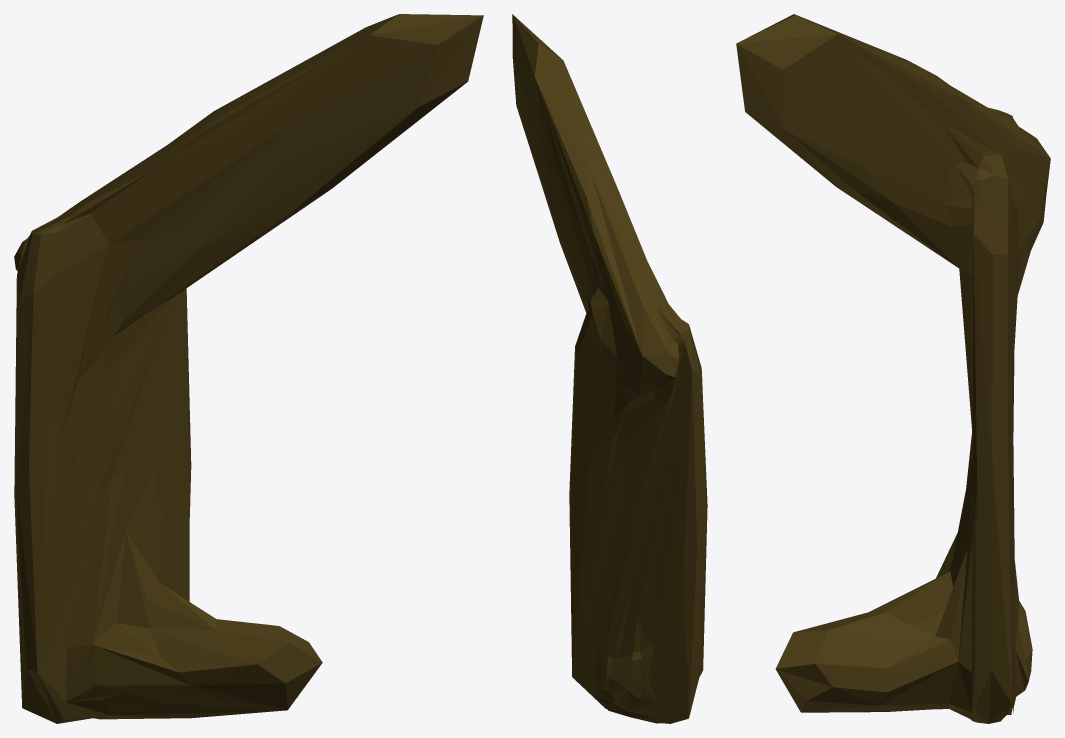
3 views of the same model, side by side, from view 1: azimuth 30°, elevation 25°; view 2: azimuth 150°, elevation 25°; view 3: azimuth 270°, elevation 25° (orthographic). The views are drawn at different scales.
Parts seen in each view (by area): view 1: 638_Cube.2567; view 2: 638_Cube.2567; view 3: 638_Cube.2567.
Boxes of the visible parts, left/top/right/bottom form: 638_Cube.2567: left=14, top=14, right=483, bottom=723; 638_Cube.2567: left=512, top=14, right=707, bottom=723; 638_Cube.2567: left=736, top=14, right=1050, bottom=723.
Bounding box in the file's own units: 9.07 × 17.58 × 6.19.
